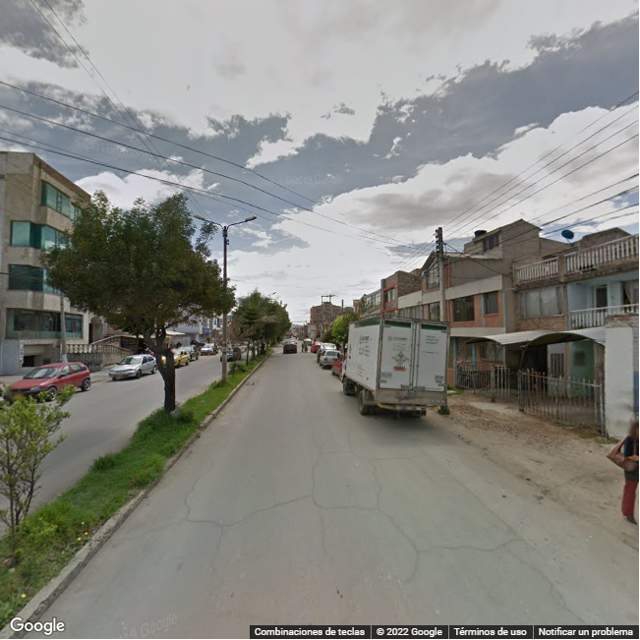D00: (514, 554, 588, 626), (374, 502, 416, 543), (188, 453, 204, 521), (317, 501, 330, 558)
D10: (209, 493, 316, 531), (418, 541, 508, 556), (324, 501, 377, 513)
